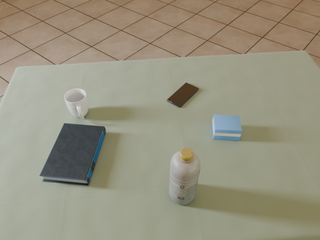book: (40, 123, 106, 185)
bottle: (169, 148, 200, 205)
box: (212, 115, 242, 141)
cup: (64, 89, 88, 119)
phone: (167, 83, 199, 107)
